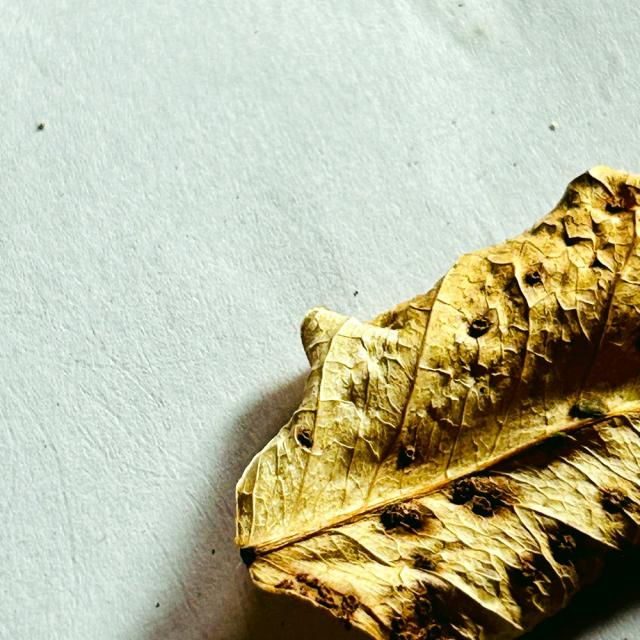DryLeaf_Lemon: (236, 167, 639, 639)
